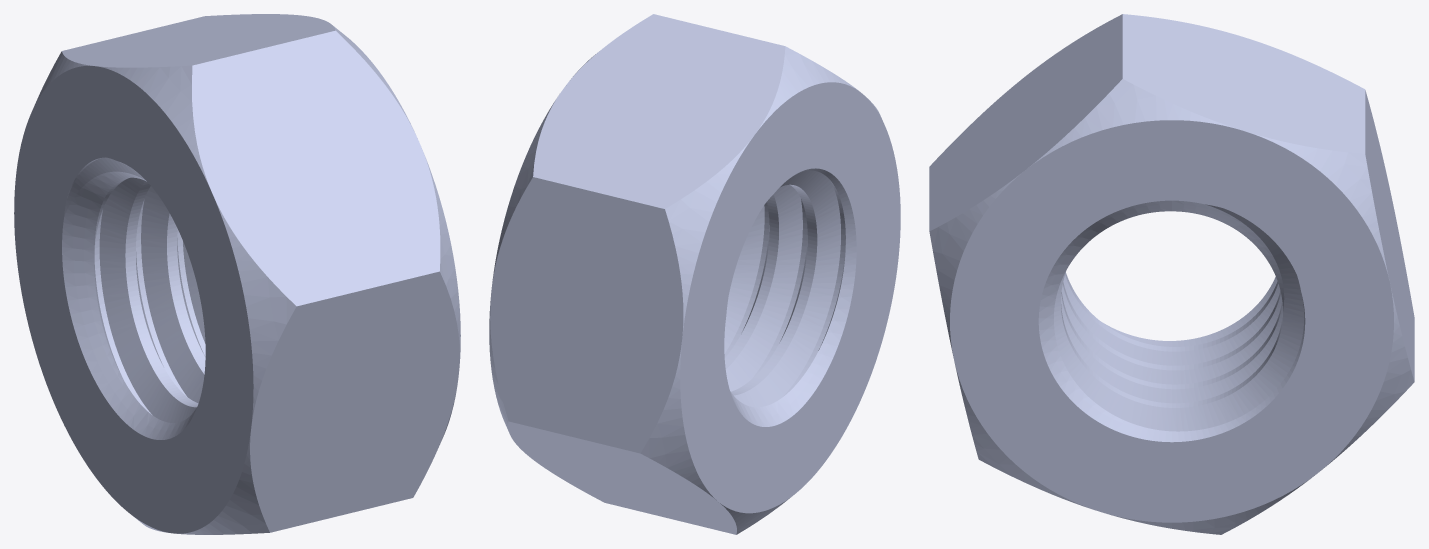
Rendered from Nut_M6_DIN934.dae.
3 views of the same model, side by side, from view 1: azimuth 30°, elevation 25°; view 2: azimuth 150°, elevation 25°; view 3: azimuth 270°, elevation 25° (orthographic). The views are drawn at different scales.
Visible parts, largest first — view 1: node_37617f39_cda1_4572_befd_6e77754ee404_mesh0; view 2: node_37617f39_cda1_4572_befd_6e77754ee404_mesh0; view 3: node_37617f39_cda1_4572_befd_6e77754ee404_mesh0.
Boxes of the visible parts, left/top/right/bottom form: node_37617f39_cda1_4572_befd_6e77754ee404_mesh0: left=14, top=14, right=460, bottom=534; node_37617f39_cda1_4572_befd_6e77754ee404_mesh0: left=489, top=14, right=900, bottom=534; node_37617f39_cda1_4572_befd_6e77754ee404_mesh0: left=929, top=14, right=1414, bottom=534.
Size of the model in its own units: 5 by 10.92 by 11.33.
